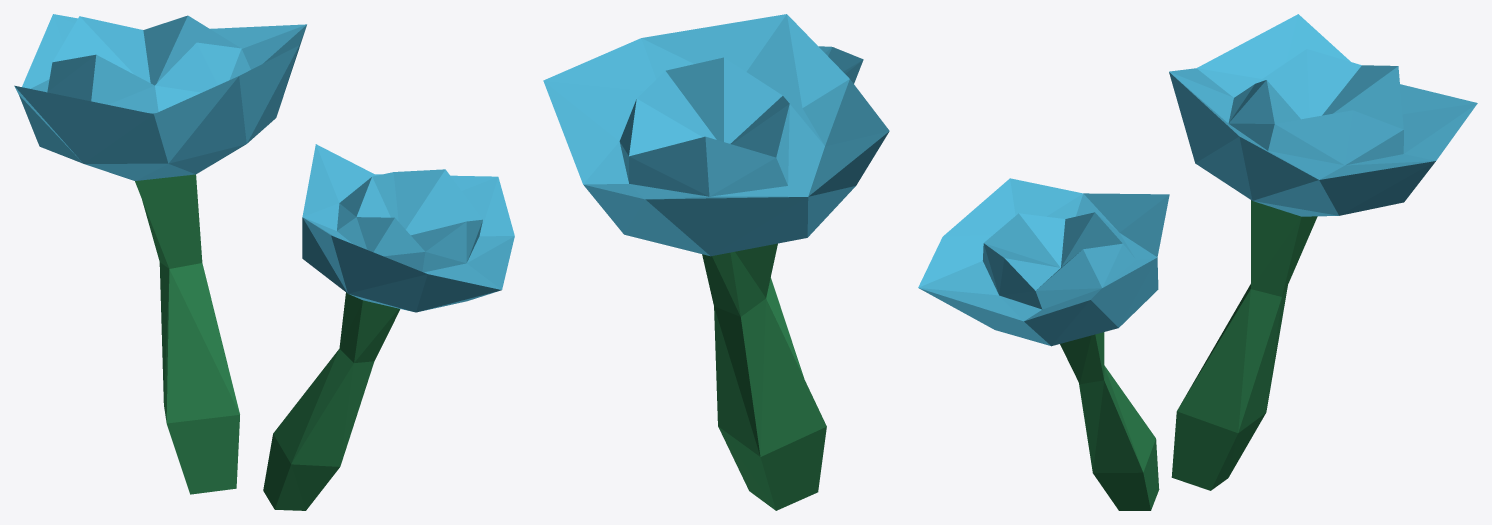
The model's file is SM_Env_Flower_02-optimized.glb.
The picture shows the model from 3 angles, left to right: view 1: azimuth 30°, elevation 25°; view 2: azimuth 150°, elevation 25°; view 3: azimuth 270°, elevation 25°; orthographic projection. The views are drawn at different scales.
Parts seen in each view (by area): view 1: SM_Env_Flower_02; view 2: SM_Env_Flower_02; view 3: SM_Env_Flower_02.
Boxes of the visible parts, left/top/right/bottom form: SM_Env_Flower_02: left=14, top=14, right=514, bottom=510; SM_Env_Flower_02: left=543, top=14, right=889, bottom=510; SM_Env_Flower_02: left=918, top=14, right=1477, bottom=510.
Size of the model in its own units: 3 by 3.23 by 3.9.
Materials: 1 (1 with a texture image).
